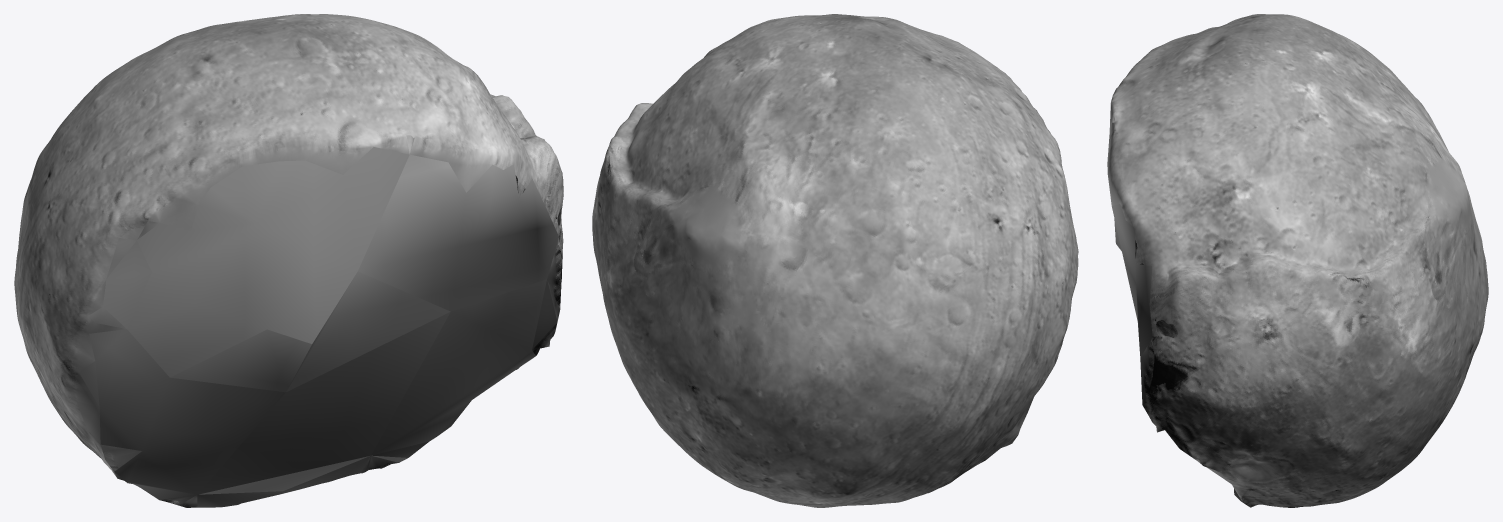
The model's file is vesta.glb.
The picture shows the model from 3 angles, left to right: view 1: azimuth 30°, elevation 25°; view 2: azimuth 150°, elevation 25°; view 3: azimuth 270°, elevation 25°; orthographic projection. The views are drawn at different scales.
Parts seen in each view (by area): view 1: Object_2; view 2: Object_2; view 3: Object_2.
Boxes of the visible parts, x1,y1,x2,y2 form: Object_2: [14, 14, 563, 507]; Object_2: [592, 14, 1078, 507]; Object_2: [1107, 14, 1488, 507].
Size of the model in its own units: 20.54 by 19.67 by 15.52.
1 material, 1 textured.
